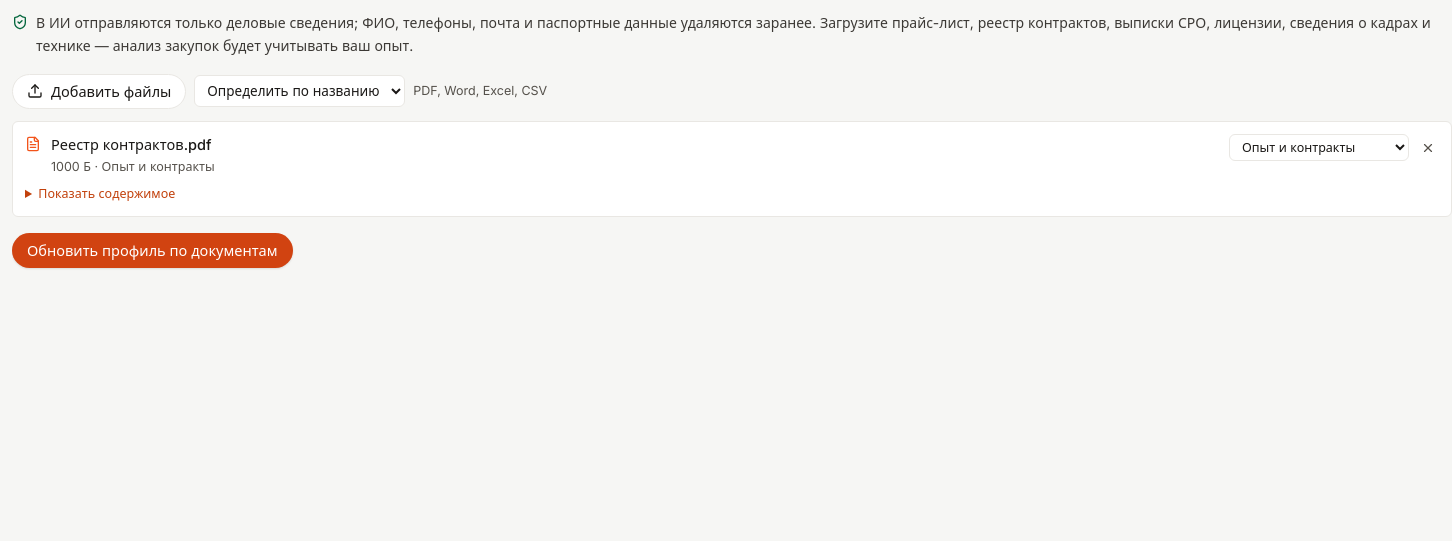
CompanyFactsSection › анкету сохранить не удалось (нет согласия) — человеку об этом сказано
Click the button "Обновить профиль по документам": (152, 250) [12,232,292,268]
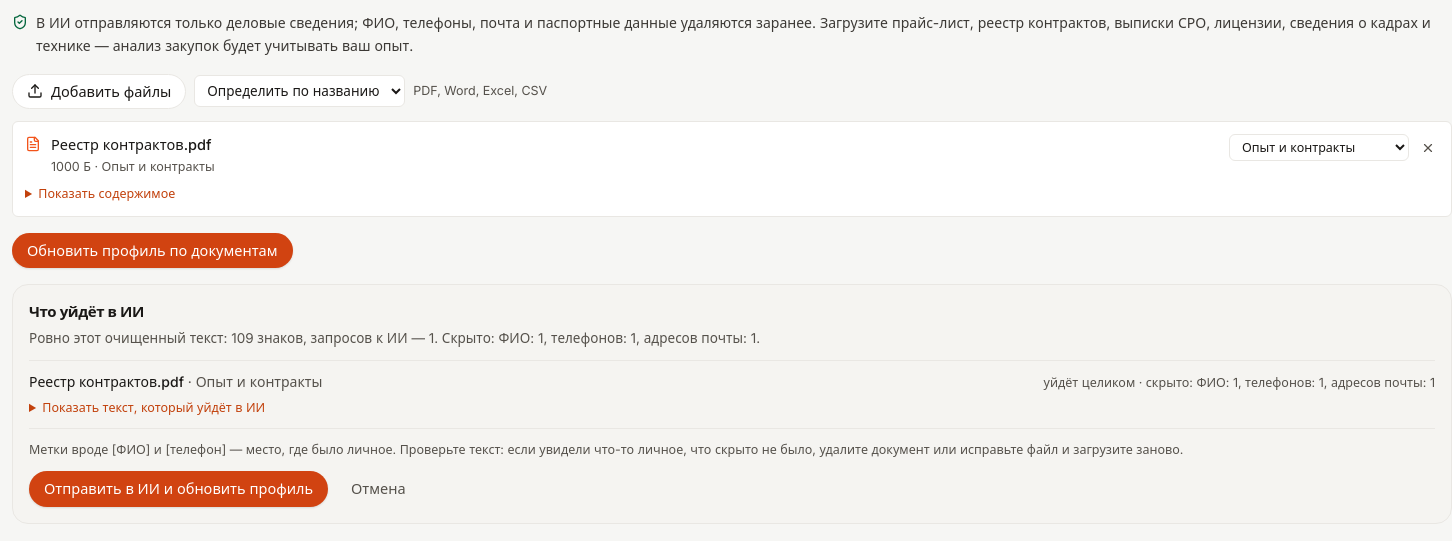
Click the button "Отправить в ИИ и обновить профиль": (178, 489) [29,471,328,507]
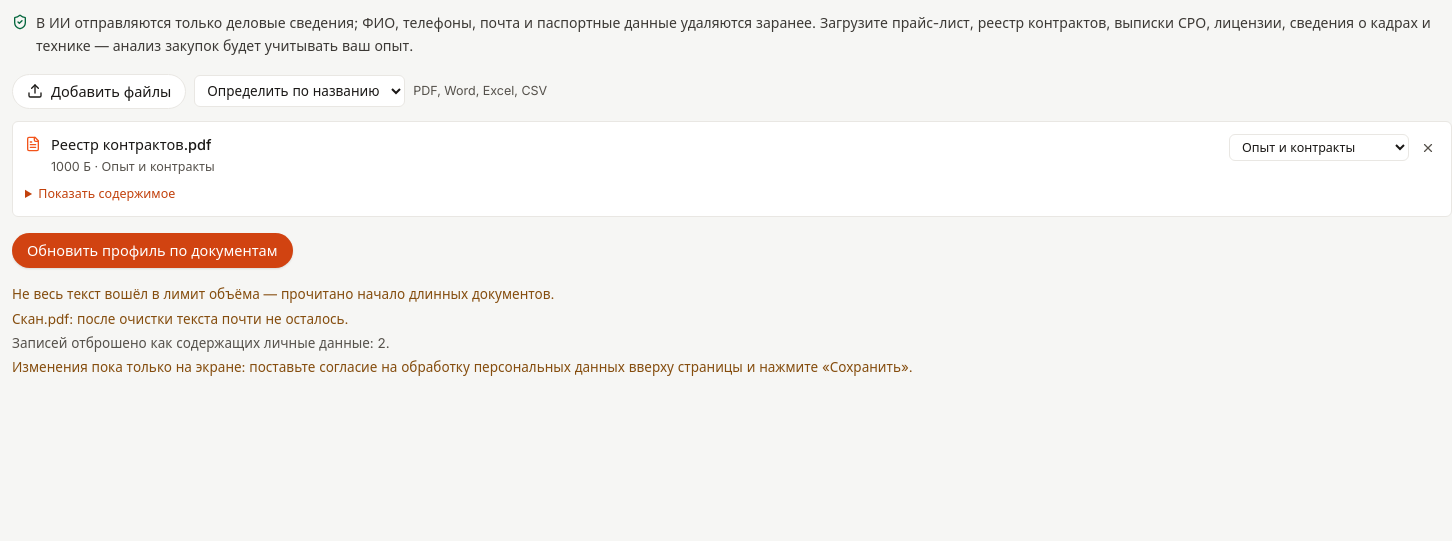
Now the element with test id "facts-outcome" shows "только на экране", box [12,359,913,375]
Now the element with test id "facts-outcome" shows "Скан.pdf", box [12,310,69,326]
Now the element with test id "facts-outcome" shows "лимит объёма", box [12,286,554,302]
